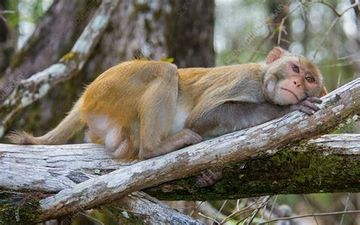monkey: (62, 33, 360, 171)
